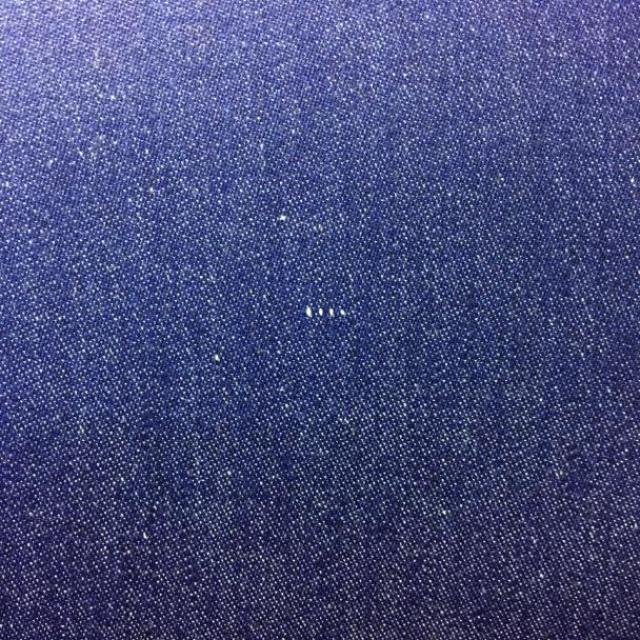Knot: (304, 306, 352, 319)
